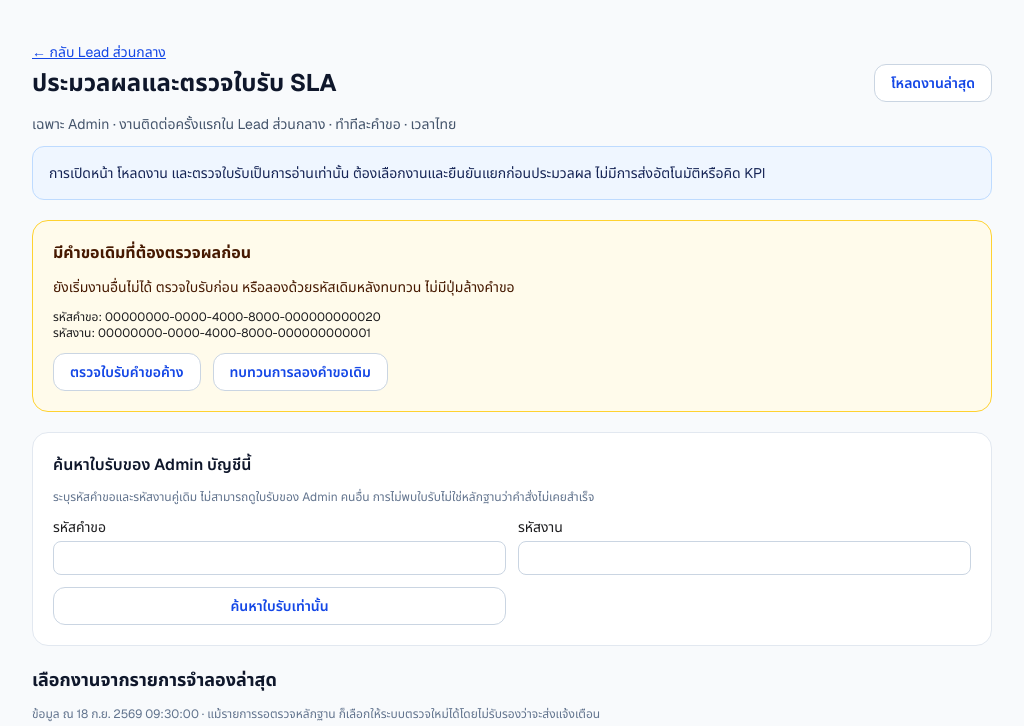
Admin explicit first-contact processing and historical receipt UI › found own matching receipt settles only that pending command and labels historical state
Expected: the heading "ประมวลผลและตรวจใบรับ SLA" is shown, [32,67,337,99]
Expected: the button "โหลดงานล่าสุด" is enabled, [874,64,992,102]
Click the button "ตรวจใบรับคำขอค้าง" at (127, 372), box [53,353,200,391]
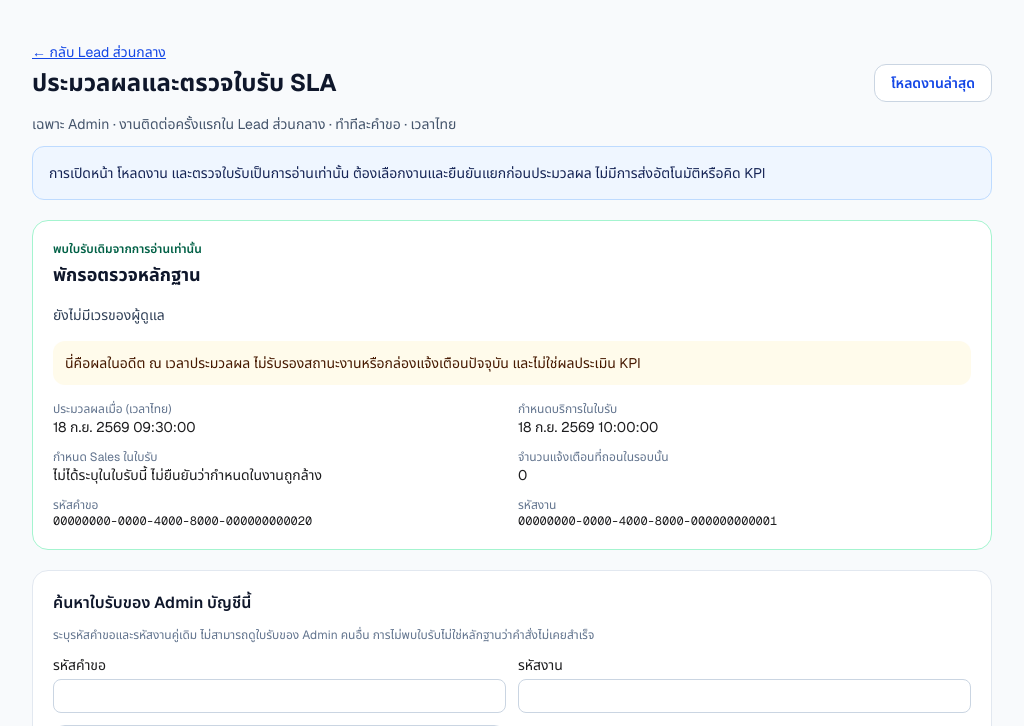
Result: the element named "ใบรับการประมวลผล" shows "พบใบรับเดิมจากการอ่านเท่านั้น" at [53,241,202,257]
Result: the element named "ใบรับการประมวลผล" shows "ไม่รับรองสถานะงานหรือกล่องแจ้งเตือนปัจจุบัน" at [65,354,641,372]
